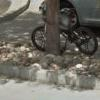Bicycle: (27, 14, 98, 60)
